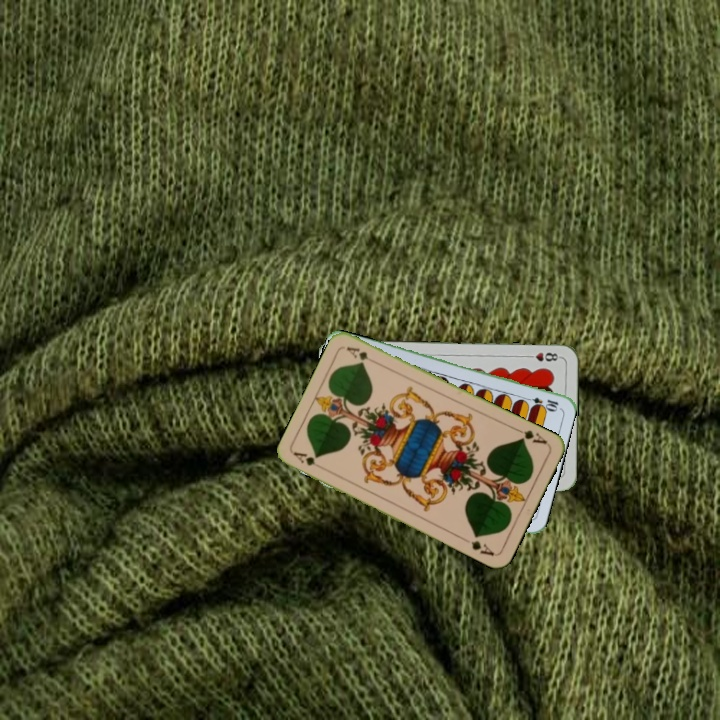E10: (520, 393, 561, 412)
GA: (512, 424, 550, 448), (290, 448, 318, 468)
H8: (522, 349, 562, 364)
